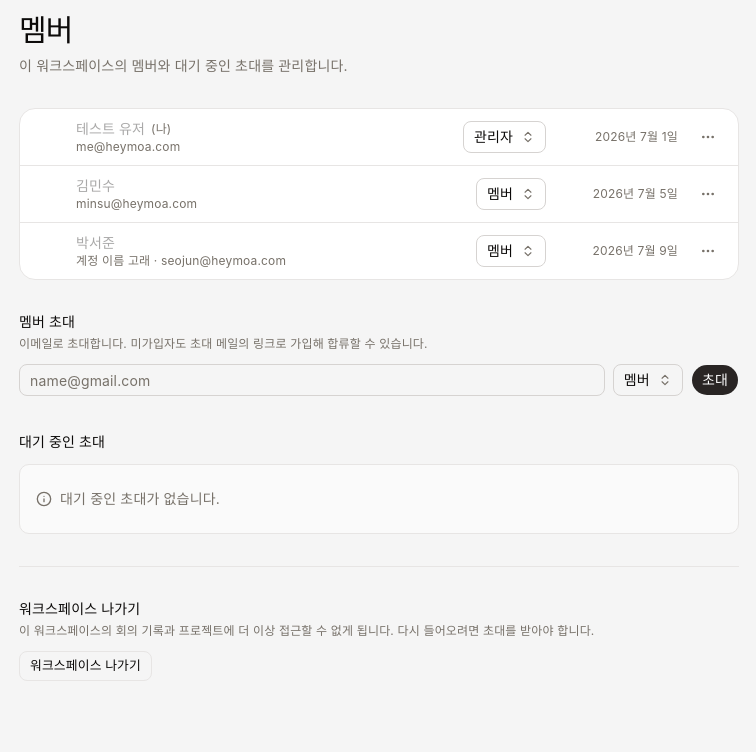
it: MembersSettings › 초대가 429 로 거절되면 서버 문구를 보이고 폼은 잠그지 않는다
Step 1. Type "junho@heymoa.app" into the field named "초대할 이메일" → (312, 380), box x1=19 y1=364 x2=605 y2=396
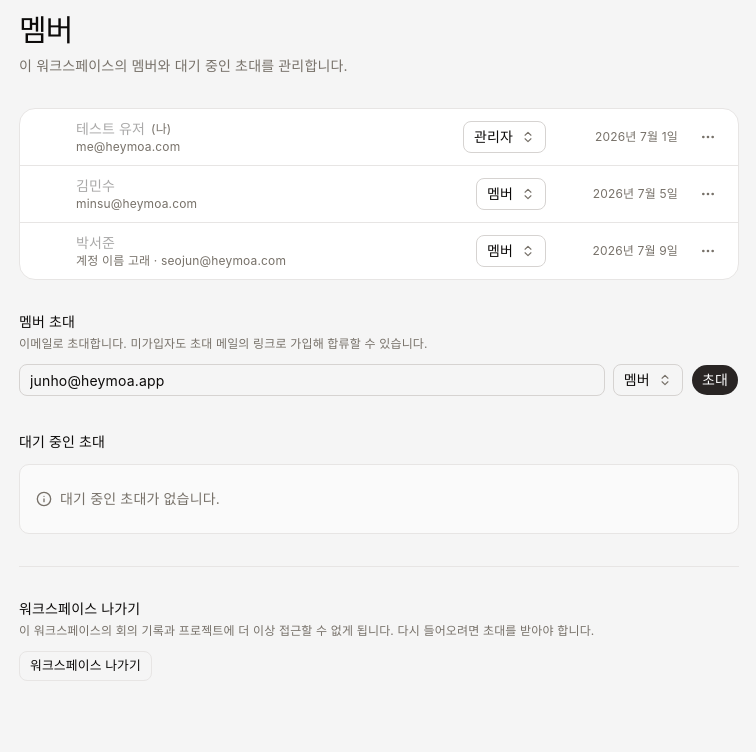
Step 2. Click the button "초대" → click(715, 380), box x1=691 y1=364 x2=739 y2=396
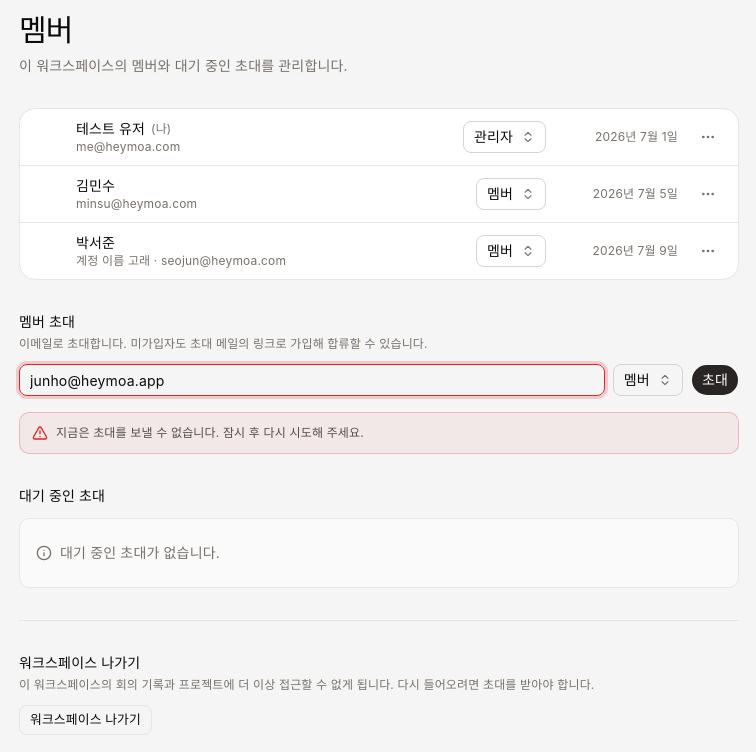
Check: the text "지금은 초대를 보낼 수 없습니다. 잠시 후 다시 시도해 주세요." is shown, box x1=56 y1=423 x2=364 y2=442
